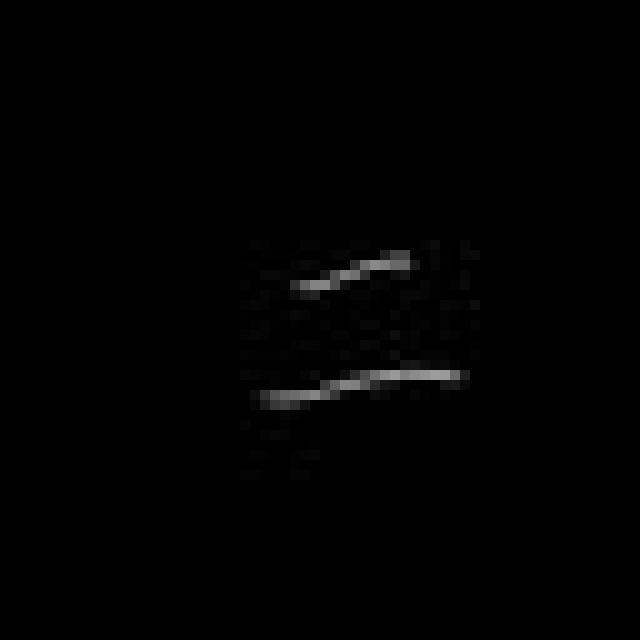2 -two-: (251, 249, 459, 421)
